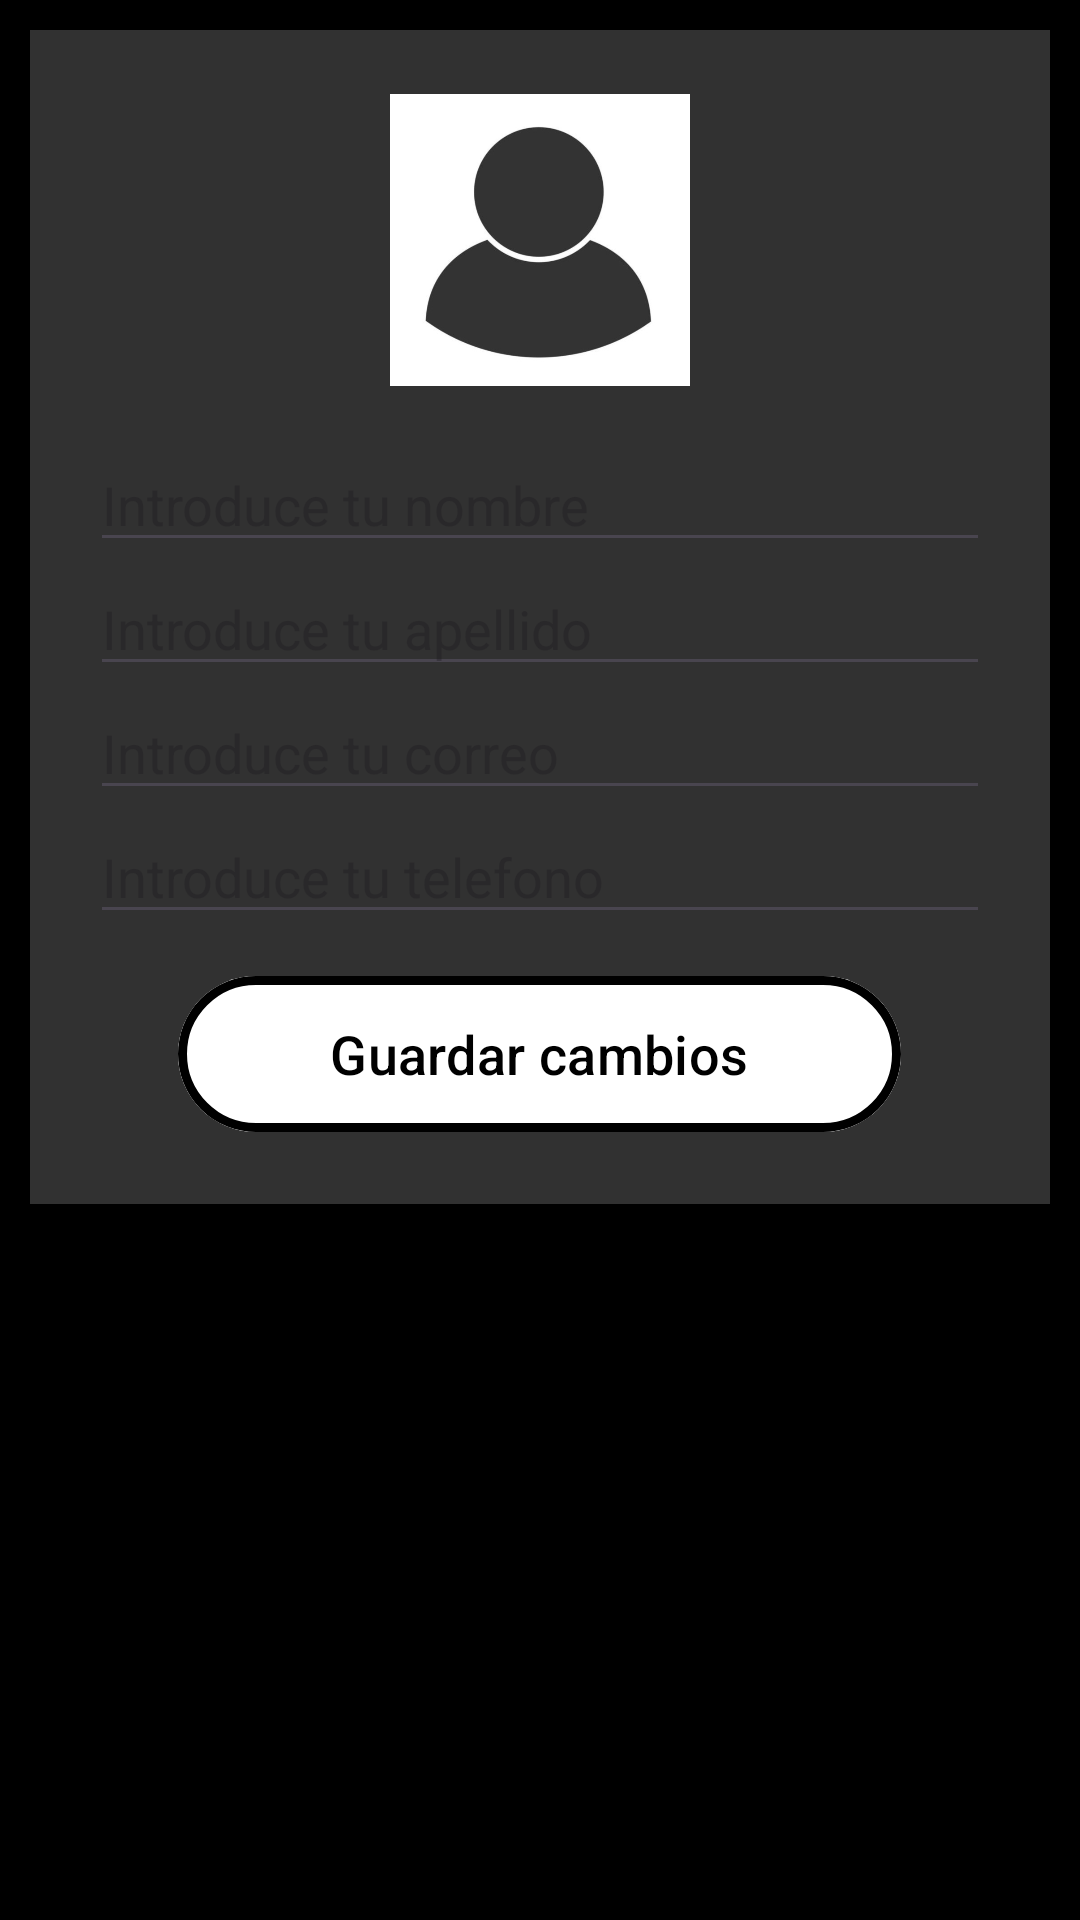

Where to tap for icons on this 1080 × 1920 app screen, as (x,y):
user: (540,240)
